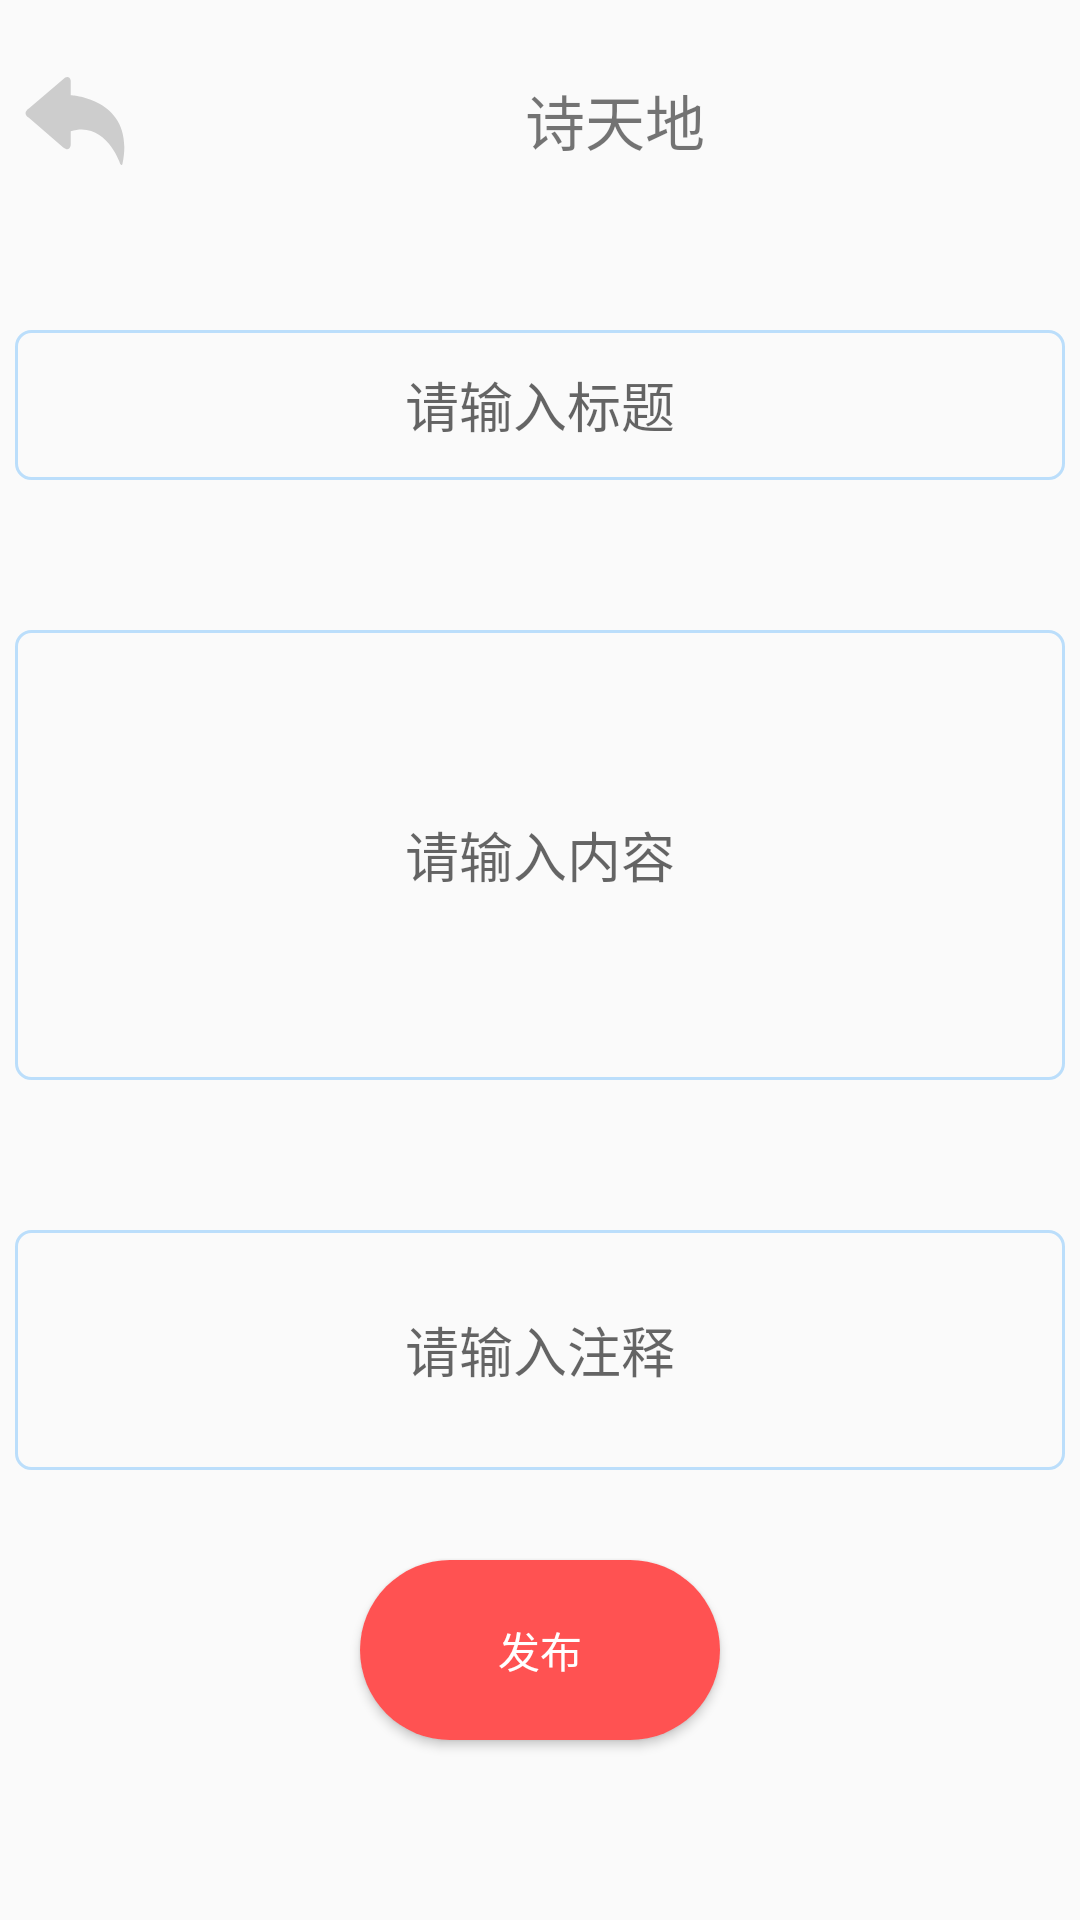

Icon bounding boxes for this 1080x1920 phone screenshot, format (x1, y1, x2, y2):
back: (26, 77, 124, 165)
